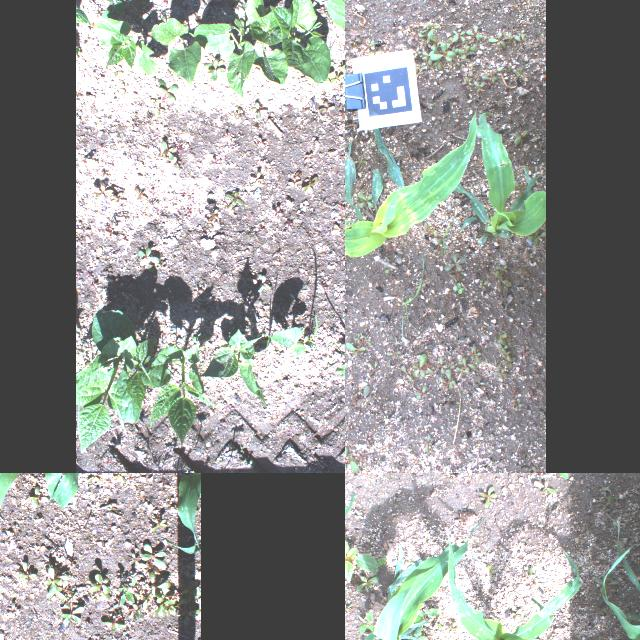crop: (345, 108, 477, 260), (424, 534, 581, 640), (356, 519, 489, 640), (438, 112, 546, 245), (75, 308, 171, 454), (102, 473, 200, 553), (149, 346, 219, 448), (200, 326, 270, 408), (192, 18, 258, 98), (267, 0, 330, 83), (601, 519, 640, 640), (92, 7, 156, 74), (243, 0, 286, 83), (151, 16, 201, 84), (326, 0, 345, 75), (270, 326, 306, 354), (76, 3, 90, 25), (345, 492, 353, 528)
weed: (394, 258, 424, 344), (316, 339, 345, 400), (345, 536, 376, 582), (154, 583, 186, 615), (174, 586, 200, 624), (138, 542, 166, 574), (44, 567, 70, 593), (594, 570, 620, 596), (60, 598, 84, 624), (90, 572, 110, 600), (118, 576, 136, 606), (150, 571, 170, 597), (103, 0, 140, 13), (157, 78, 177, 102), (430, 43, 456, 61), (442, 210, 456, 242), (445, 251, 467, 271), (206, 57, 224, 81), (135, 247, 159, 265), (100, 613, 124, 631), (30, 487, 48, 508), (345, 445, 359, 471), (412, 352, 426, 378), (302, 174, 320, 194), (224, 191, 244, 209), (191, 331, 211, 349), (18, 561, 36, 581), (65, 584, 85, 602), (90, 184, 112, 200), (356, 611, 372, 633), (356, 576, 378, 592), (602, 487, 618, 509), (418, 22, 439, 38), (414, 608, 438, 622), (250, 101, 268, 119), (308, 314, 318, 346), (256, 273, 272, 293), (160, 140, 176, 160), (356, 385, 372, 405), (495, 270, 511, 290), (486, 31, 506, 47), (534, 480, 556, 494), (482, 487, 496, 508), (439, 369, 455, 387), (346, 342, 366, 356), (466, 24, 482, 40), (54, 576, 68, 594), (142, 591, 156, 609), (372, 556, 386, 574), (248, 172, 264, 186), (514, 130, 530, 144), (358, 192, 372, 208), (454, 45, 470, 59), (426, 32, 442, 46), (6, 602, 20, 618), (152, 517, 168, 531), (318, 100, 336, 112), (202, 58, 222, 68), (457, 357, 475, 368), (296, 335, 310, 349), (134, 186, 148, 200), (414, 385, 428, 399), (492, 367, 508, 379), (348, 31, 362, 44), (436, 355, 446, 373), (422, 50, 434, 64), (482, 70, 496, 82), (473, 79, 485, 93), (46, 586, 60, 598), (54, 590, 68, 602), (132, 603, 144, 617), (329, 74, 345, 84), (239, 17, 249, 33), (470, 346, 480, 362), (432, 613, 442, 629), (600, 605, 616, 615), (437, 240, 448, 254), (110, 64, 122, 76), (208, 156, 220, 168), (424, 432, 432, 450), (447, 36, 459, 48), (496, 332, 506, 346), (130, 552, 140, 566), (502, 357, 514, 368), (447, 621, 458, 633), (113, 473, 127, 482), (153, 105, 165, 115), (149, 94, 159, 106), (208, 208, 218, 220), (202, 217, 212, 229), (457, 366, 469, 376), (500, 346, 510, 358), (452, 282, 462, 294), (453, 30, 465, 40), (64, 558, 76, 568), (486, 564, 496, 576), (226, 0, 239, 9), (545, 473, 568, 478), (414, 632, 428, 640), (528, 564, 536, 578), (478, 280, 488, 290), (432, 60, 442, 70), (514, 32, 524, 42), (62, 597, 72, 607), (512, 608, 522, 618), (600, 504, 610, 514), (233, 107, 241, 119), (496, 264, 508, 272), (514, 397, 522, 409), (87, 473, 99, 481), (340, 61, 345, 78), (324, 73, 334, 81), (529, 465, 539, 473), (366, 36, 374, 46), (462, 76, 472, 84), (426, 42, 436, 50), (345, 603, 353, 613), (172, 157, 178, 169), (504, 31, 512, 39), (109, 604, 119, 610), (106, 503, 116, 509), (245, 459, 252, 467), (156, 262, 164, 268), (348, 40, 358, 44), (367, 598, 373, 604), (76, 46, 80, 54), (345, 603, 349, 611), (465, 473, 475, 475)
